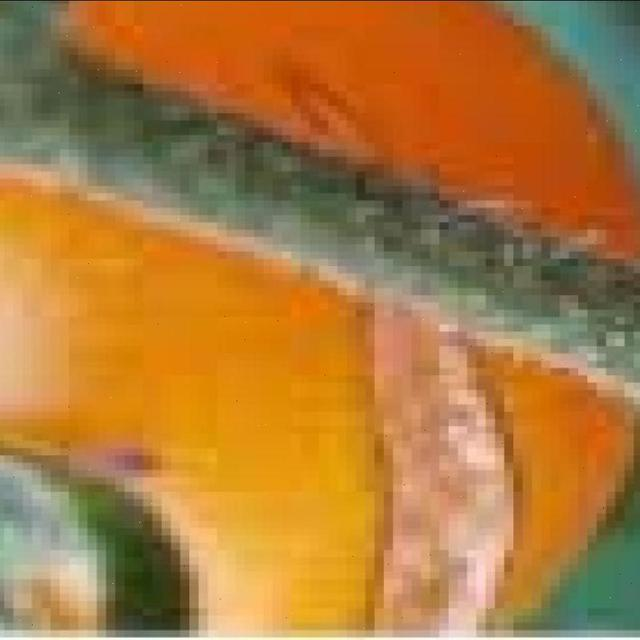Cracking Fruit: (210, 40, 349, 427)
